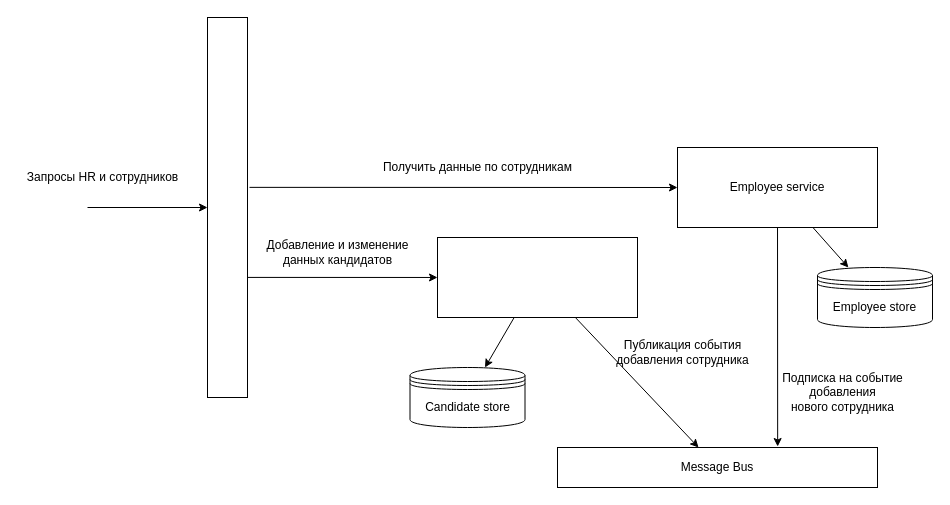
Image size: 950x505. Some labels were removed from this diagram. The shapes that lost their labels are listed below. From the top down, each one's centre as x and y in pixels, then its label:
At point 227,207: "Api Gateway".
At point 537,277: "Candidate service".
